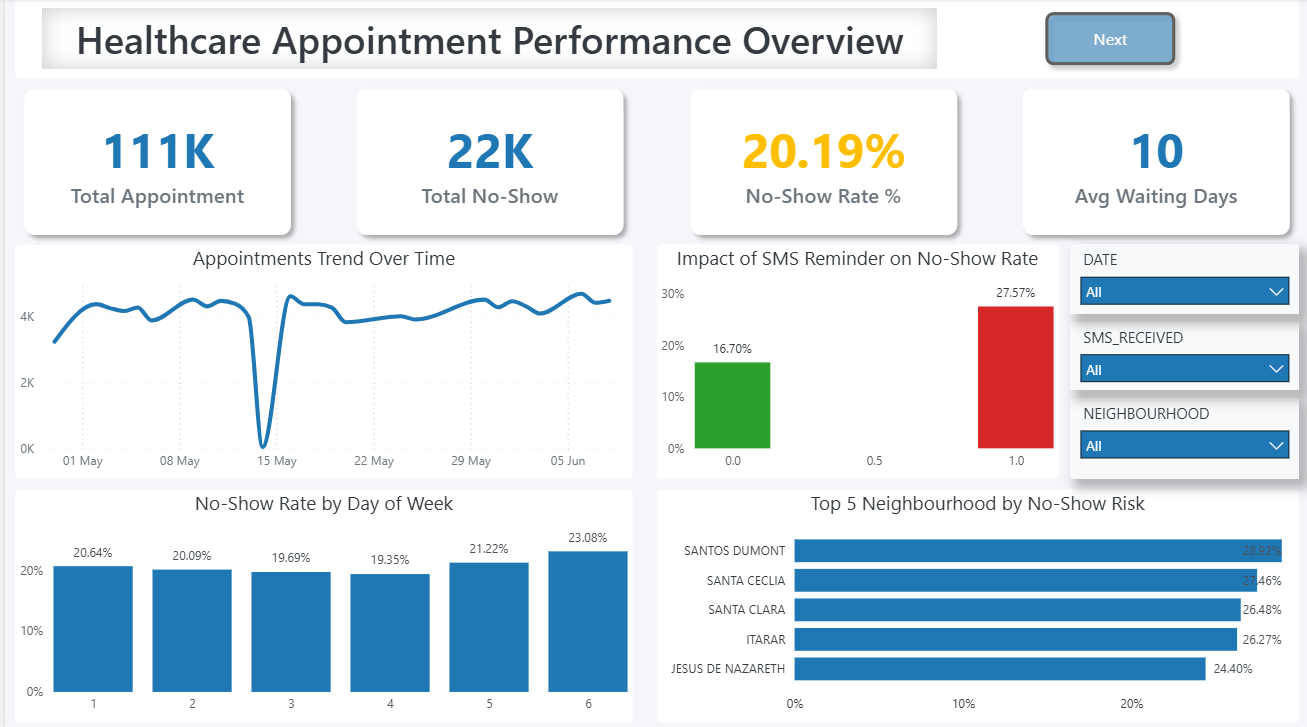

The page's visual inventory and layout, read from the dashboard file:
{"tool":"powerbi","page":{"name":"overview","canvas":[1280,720],"ordinal":0},"visuals":[{"type":"shape","box":[9.6,79.6,279.9,161.9],"z":0},{"type":"shape","box":[336.7,79.6,279.9,161.9],"z":1000},{"type":"shape","box":[663.7,79.6,279.9,161.9],"z":2000},{"type":"shape","box":[990.7,79.6,279.9,161.9],"z":3000},{"type":"shape","box":[9.6,241.5,606.5,230.5],"z":4000},{"type":"shape","box":[639.5,241.5,395.2,230.5],"z":5000},{"type":"shape","box":[9.6,481.6,606.5,229.2],"z":6000},{"type":"shape","box":[639.5,481.6,631.2,229.2],"z":7000},{"type":"shape","box":[1045.6,241.5,225,230.5],"z":8000},{"type":"card","fields":{"Values":["FACT_APPOINTMENT.Total appointment"]},"box":[9.6,79.6,279.9,161.9],"z":9000},{"type":"card","fields":{"Values":["FACT_APPOINTMENT.total no_show"]},"box":[336.2,79.6,279.9,161.9],"z":10000},{"type":"card","fields":{"Values":["FACT_APPOINTMENT.no show rate"]},"box":[664.2,79.6,279.9,161.9],"z":11000},{"type":"card","fields":{"Values":["FACT_APPOINTMENT.avg waiting days"]},"box":[990.7,79.6,279.9,161.9],"z":12000},{"type":"lineChart","title":"Appointments Trend Over Time","fields":{"Category":["FACT_APPOINTMENT.APPOINTMENT_DATE"],"Y":["FACT_APPOINTMENT.Total appointment"]},"box":[9.6,241.5,606.5,230.5],"z":13000},{"type":"clusteredColumnChart","title":"No-Show Rate by Day of Week","fields":{"Category":["DIM_DATE.DAY_OF_WEEK"],"Y":["FACT_APPOINTMENT.no show rate"]},"box":[9.6,481.6,606.5,229.2],"z":14000},{"type":"clusteredBarChart","title":"Top 5 Neighbourhood by No-Show Risk","fields":{"Category":["DIM_NEIGHBOUR.NEIGHBOURHOOD"],"Y":["FACT_APPOINTMENT.no show rate"]},"box":[639.5,481.6,631.2,229.2],"z":15000},{"type":"clusteredColumnChart","title":"Impact of SMS Reminder on No-Show Rate","fields":{"Category":["FACT_APPOINTMENT.SMS_RECEIVED"],"Y":["FACT_APPOINTMENT.no show rate"]},"box":[639.5,241.5,395.2,230.5],"z":16000},{"type":"slicer","fields":{"Values":["DIM_DATE.DATE"]},"box":[1045.6,241.5,225,68.6],"z":17000},{"type":"slicer","fields":{"Values":["DIM_NEIGHBOUR.NEIGHBOURHOOD"]},"box":[1045.6,392.5,225,79.6],"z":18000},{"type":"slicer","fields":{"Values":["FACT_APPOINTMENT.SMS_RECEIVED"]},"box":[1045.6,318.4,225,67.2],"z":19000},{"type":"shape","box":[9.6,0,1261.1,79.6],"z":20000},{"type":"textbox","box":[37,9.6,878.2,60.4],"z":21000},{"type":"actionButton","box":[1012.7,5.5,145.5,70],"z":22000}]}

Visuals, with their boxes in screenshot pixels (x1, y1, x2, y2), scaled from the page's 1280x720 canvas onto the 1307x727 screenshot:
shape: Rect(10, 80, 296, 244)
shape: Rect(344, 80, 630, 244)
shape: Rect(678, 80, 964, 244)
shape: Rect(1012, 80, 1297, 244)
shape: Rect(10, 244, 629, 477)
shape: Rect(653, 244, 1057, 477)
shape: Rect(10, 486, 629, 718)
shape: Rect(653, 486, 1298, 718)
shape: Rect(1068, 244, 1297, 477)
card - FACT_APPOINTMENT.Total appointment: Rect(10, 80, 296, 244)
card - FACT_APPOINTMENT.total no_show: Rect(343, 80, 629, 244)
card - FACT_APPOINTMENT.no show rate: Rect(678, 80, 964, 244)
card - FACT_APPOINTMENT.avg waiting days: Rect(1012, 80, 1297, 244)
"Appointments Trend Over Time" lineChart: Rect(10, 244, 629, 477)
"No-Show Rate by Day of Week" clusteredColumnChart: Rect(10, 486, 629, 718)
"Top 5 Neighbourhood by No-Show Risk" clusteredBarChart: Rect(653, 486, 1298, 718)
"Impact of SMS Reminder on No-Show Rate" clusteredColumnChart: Rect(653, 244, 1057, 477)
slicer - DIM_DATE.DATE: Rect(1068, 244, 1297, 313)
slicer - DIM_NEIGHBOUR.NEIGHBOURHOOD: Rect(1068, 396, 1297, 477)
slicer - FACT_APPOINTMENT.SMS_RECEIVED: Rect(1068, 321, 1297, 389)
shape: Rect(10, 0, 1298, 80)
textbox: Rect(38, 10, 935, 71)
actionButton: Rect(1034, 6, 1183, 76)
